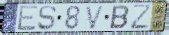8: (64, 5, 82, 31)
B: (108, 5, 130, 30)
E: (17, 4, 39, 32)
S: (37, 5, 58, 31)
V: (85, 5, 106, 31)
Z: (130, 3, 152, 31)
